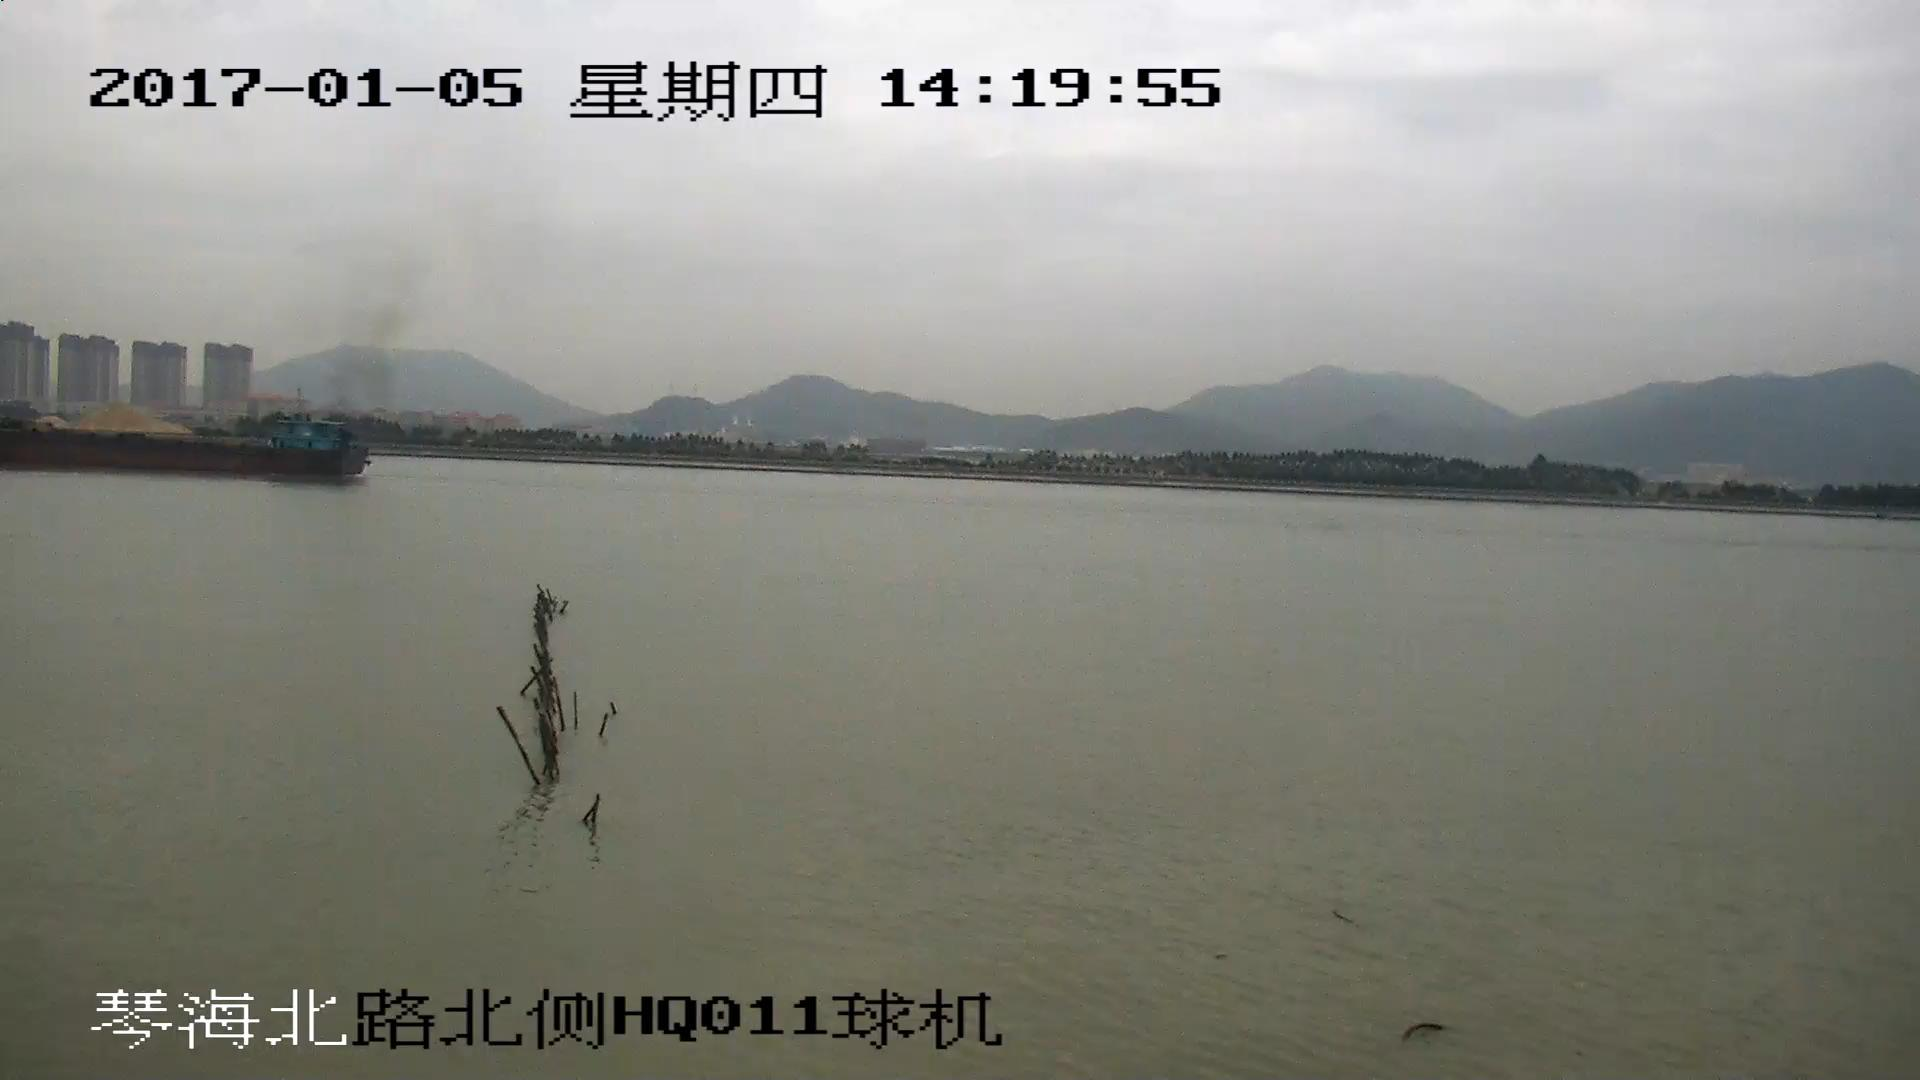Ship: (3, 414, 376, 477)
